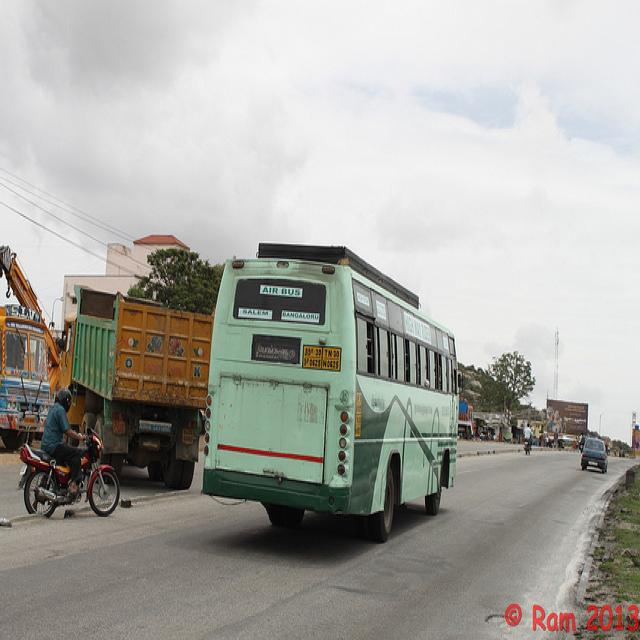motor: (17, 427, 120, 515), (523, 437, 531, 456)
